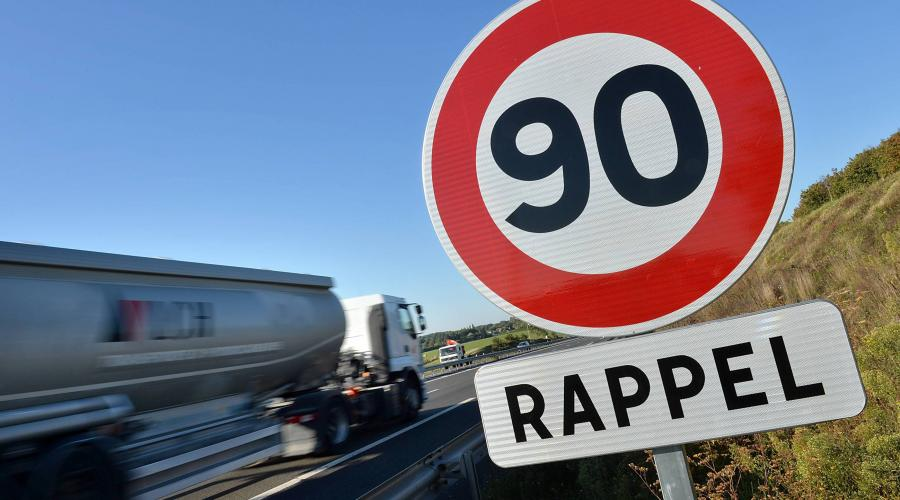Speed_limit_90km: (418, 2, 801, 339)
